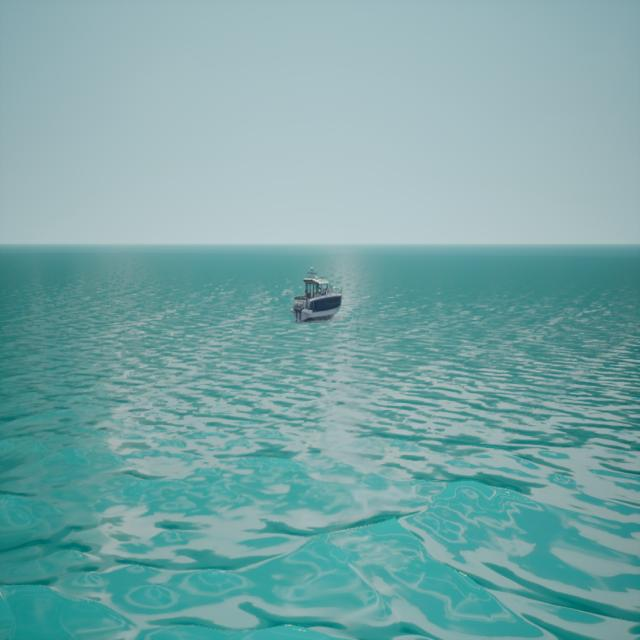ship: (292, 267, 342, 322)
